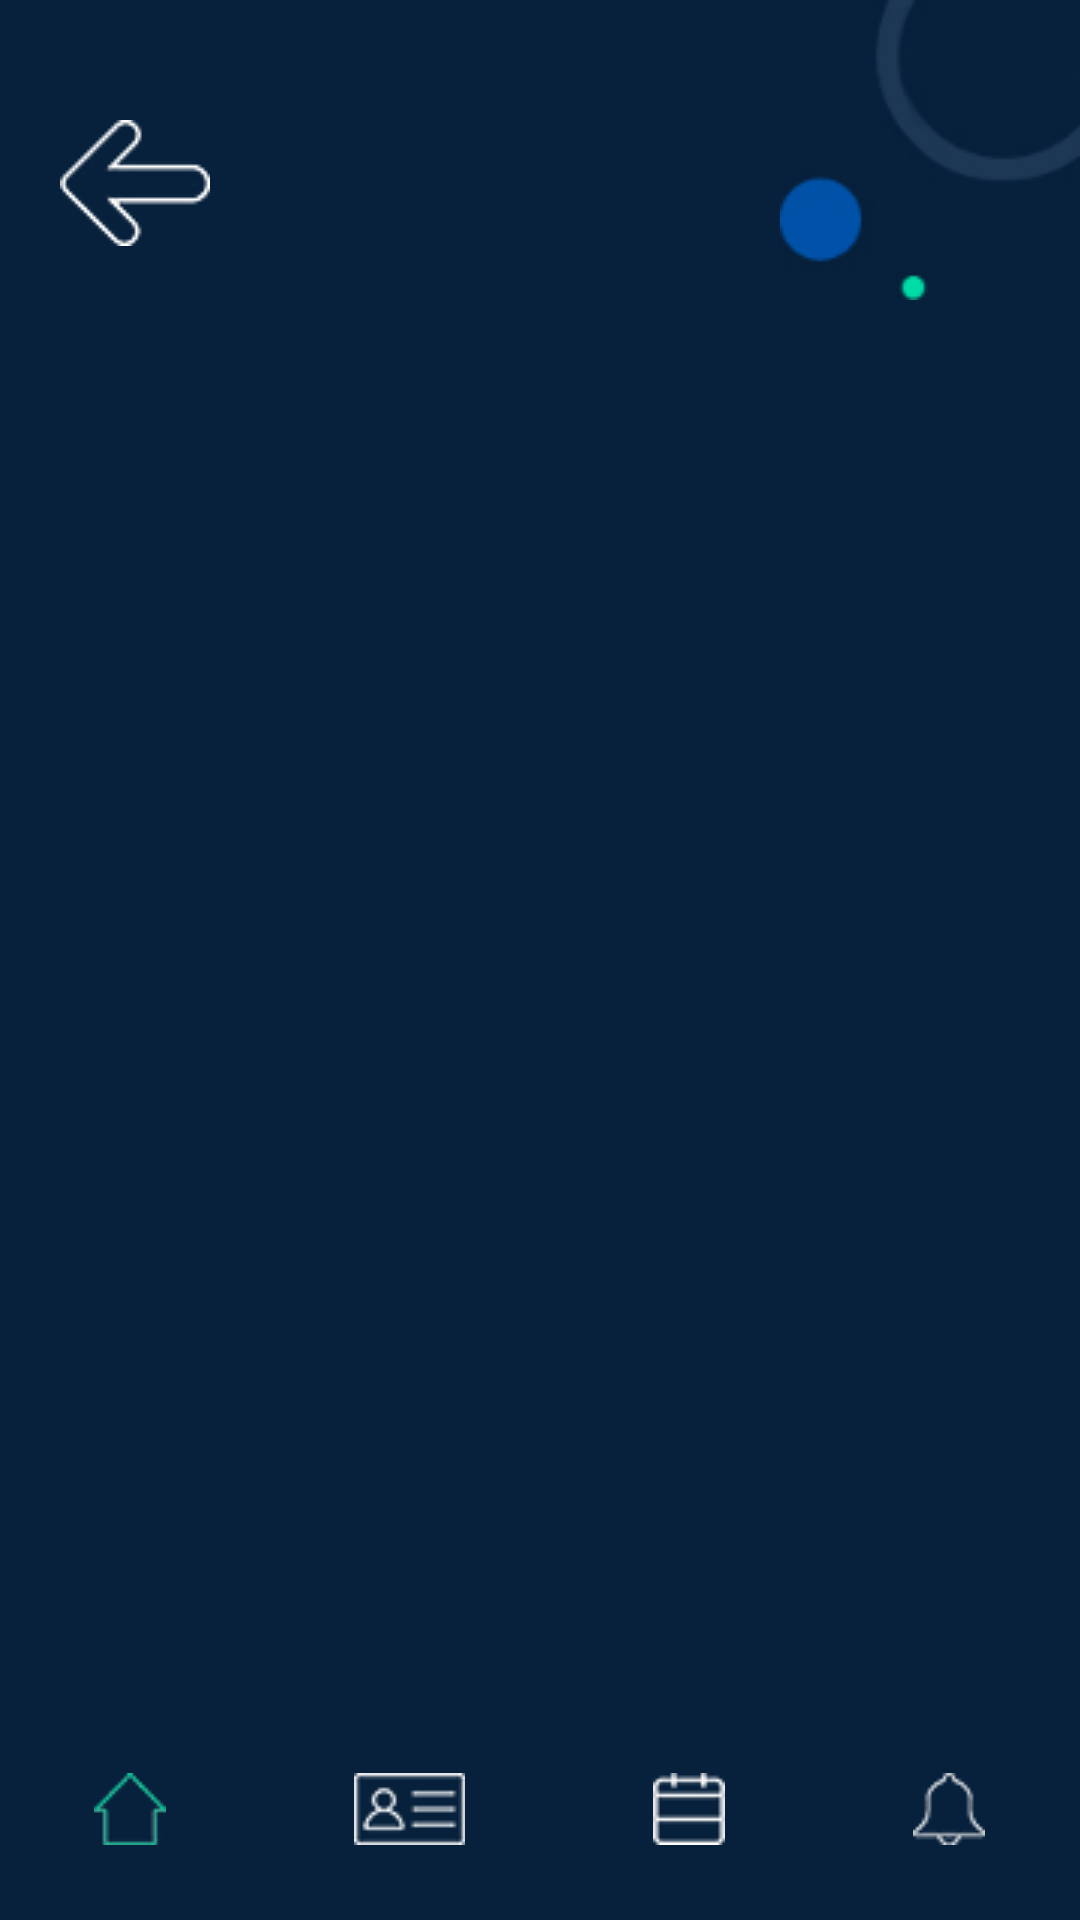

Icon click points for this 1080×1920 phone screenshot, format (x=x, y=y):
back: (x=135, y=183)
home: (x=130, y=1809)
